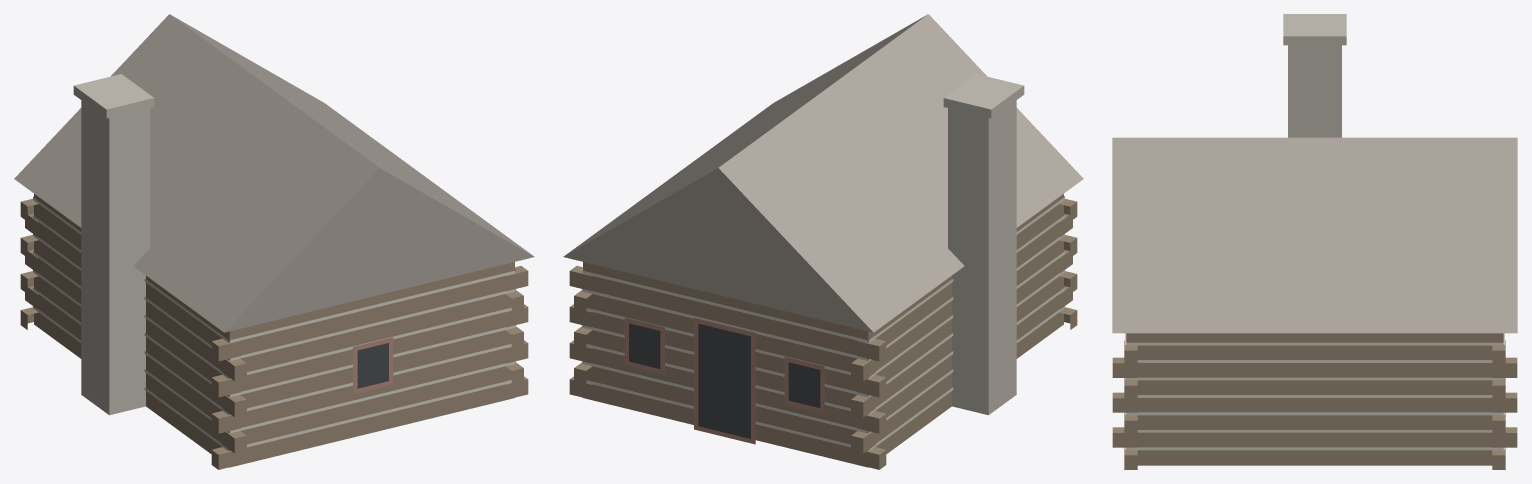
Rendered from recon_1835_blk_randolph_clinton_d1_03__inferred_1835.glb.
The picture shows the model from 3 angles, left to right: view 1: azimuth 30°, elevation 25°; view 2: azimuth 150°, elevation 25°; view 3: azimuth 270°, elevation 25°; orthographic projection. The views are drawn at different scales.
Parts seen in each view (by area): view 1: recon_1835_blk_randolph_clinton_d1_03__inferred_1835; view 2: recon_1835_blk_randolph_clinton_d1_03__inferred_1835; view 3: recon_1835_blk_randolph_clinton_d1_03__inferred_1835.
Part boxes in pixels (left/top/right/bottom): recon_1835_blk_randolph_clinton_d1_03__inferred_1835: left=14, top=14, right=534, bottom=469; recon_1835_blk_randolph_clinton_d1_03__inferred_1835: left=563, top=14, right=1083, bottom=469; recon_1835_blk_randolph_clinton_d1_03__inferred_1835: left=1112, top=14, right=1517, bottom=469.
Bounding box in the file's own units: 6.68 × 5.87 × 7.16.
